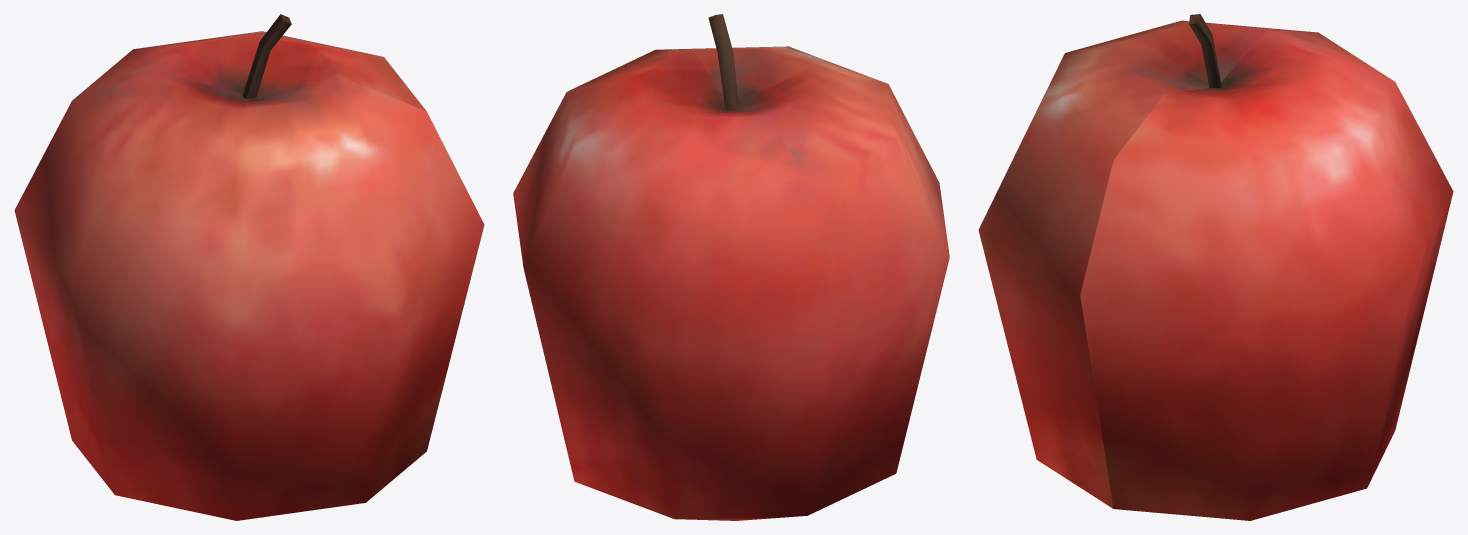
3 views of the same model, side by side, from view 1: azimuth 30°, elevation 25°; view 2: azimuth 150°, elevation 25°; view 3: azimuth 270°, elevation 25° (orthographic). The views are drawn at different scales.
Parts seen in each view (by area): view 1: apple2; view 2: apple2; view 3: apple2.
Boxes of the visible parts, <box> form: apple2: <box>14,14,484,520</box>; apple2: <box>513,14,949,520</box>; apple2: <box>978,14,1453,520</box>.
Size of the model in its own units: 19.32 by 21.64 by 19.32.
1 material, 1 textured.
